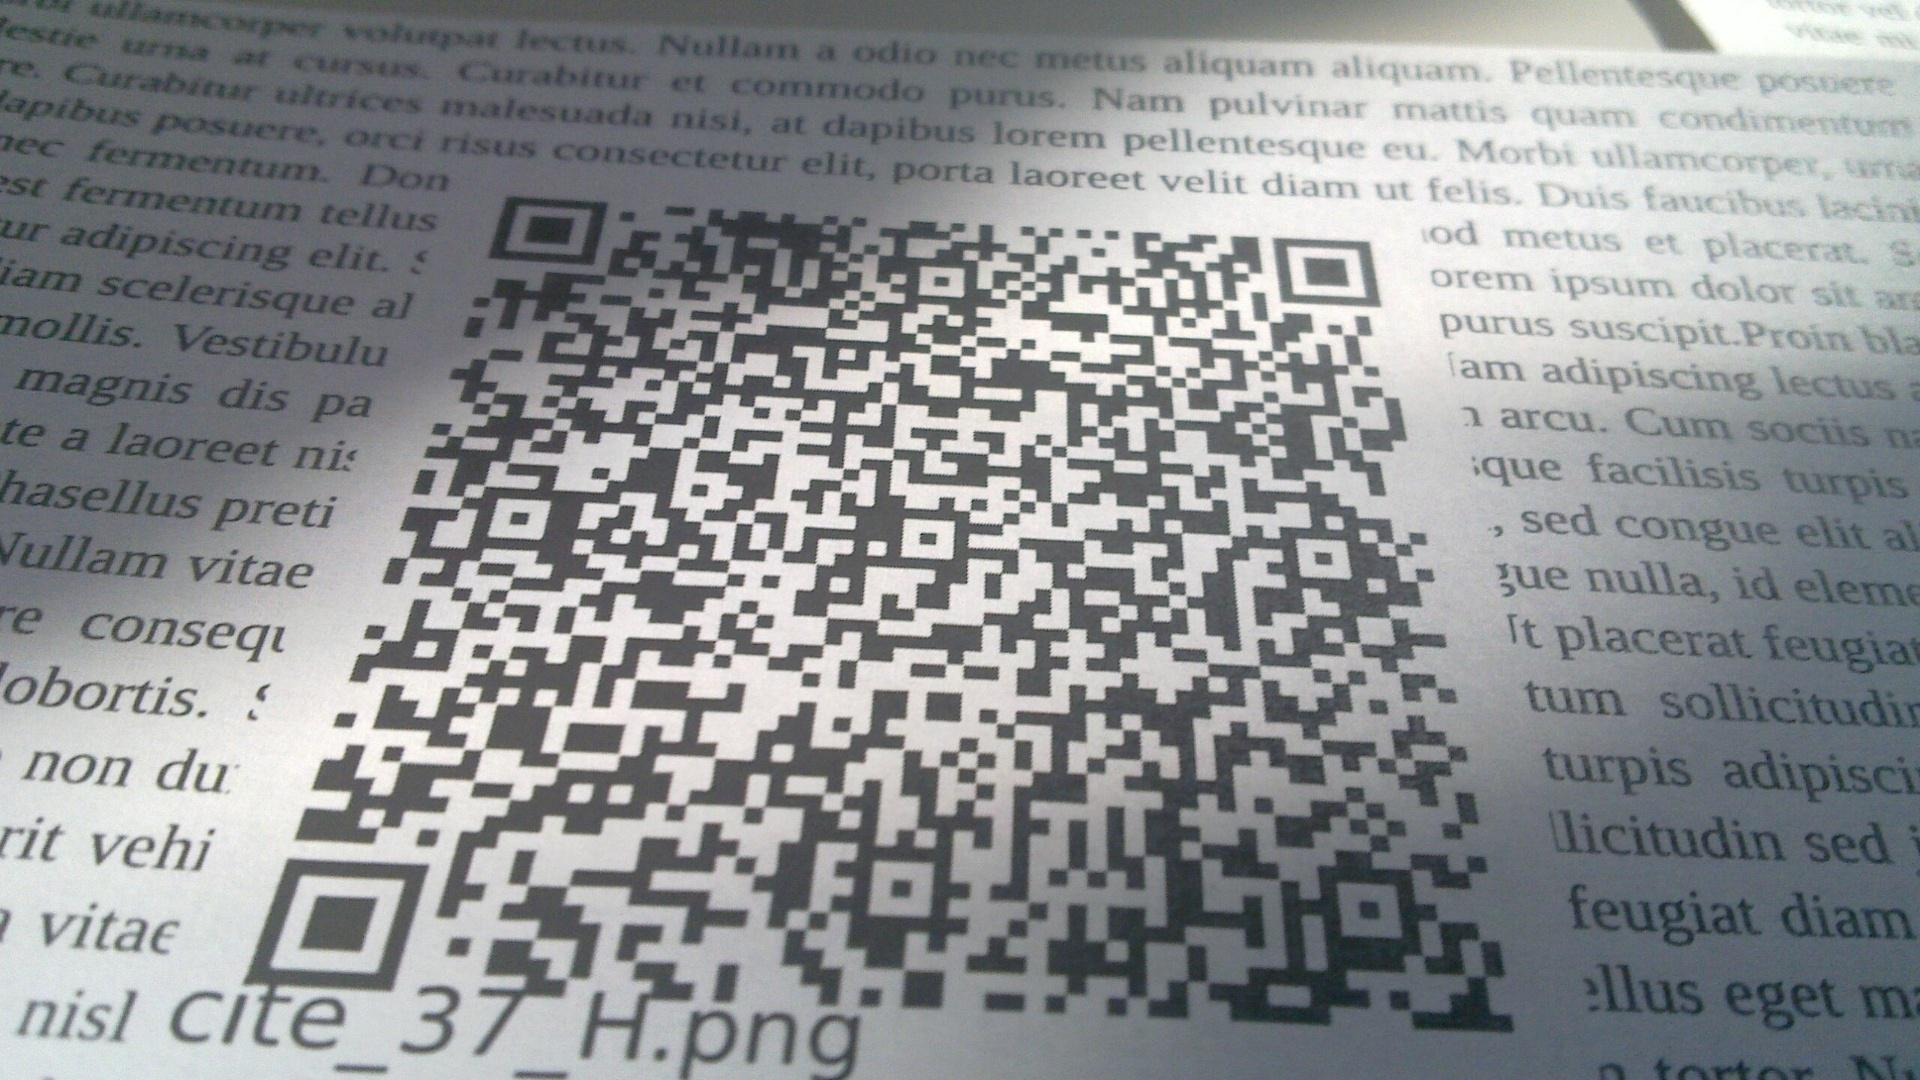Finder pattern: (252, 855, 427, 994), (1265, 231, 1389, 313), (492, 191, 607, 265)
